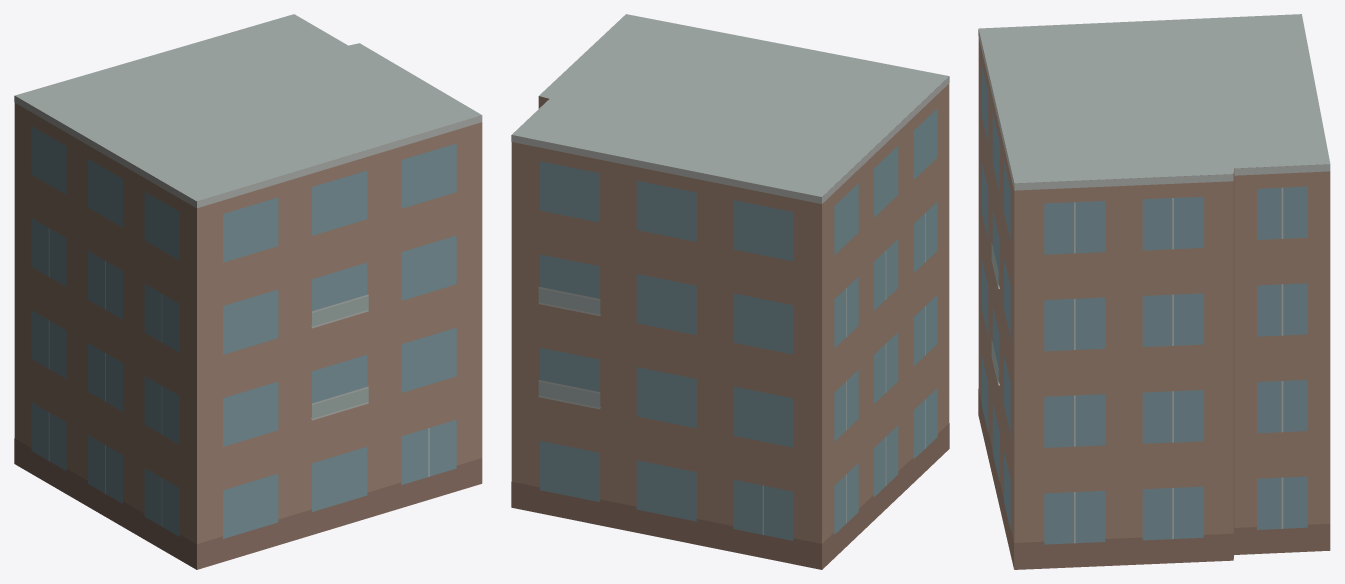
Rendered from survey-upis-33036453.glb.
The picture shows the model from 3 angles, left to right: view 1: azimuth 30°, elevation 25°; view 2: azimuth 150°, elevation 25°; view 3: azimuth 270°, elevation 25°; orthographic projection. The views are drawn at different scales.
Parts seen in each view (by area): view 1: survey-upis-33036453.tmp; view 2: survey-upis-33036453.tmp; view 3: survey-upis-33036453.tmp.
Boxes of the visible parts, x1,y1,x2,y2 form: survey-upis-33036453.tmp: (14,14,482,569); survey-upis-33036453.tmp: (511,14,949,569); survey-upis-33036453.tmp: (978,14,1330,569).
Size of the model in its own units: 12.22 by 13 by 10.74.
